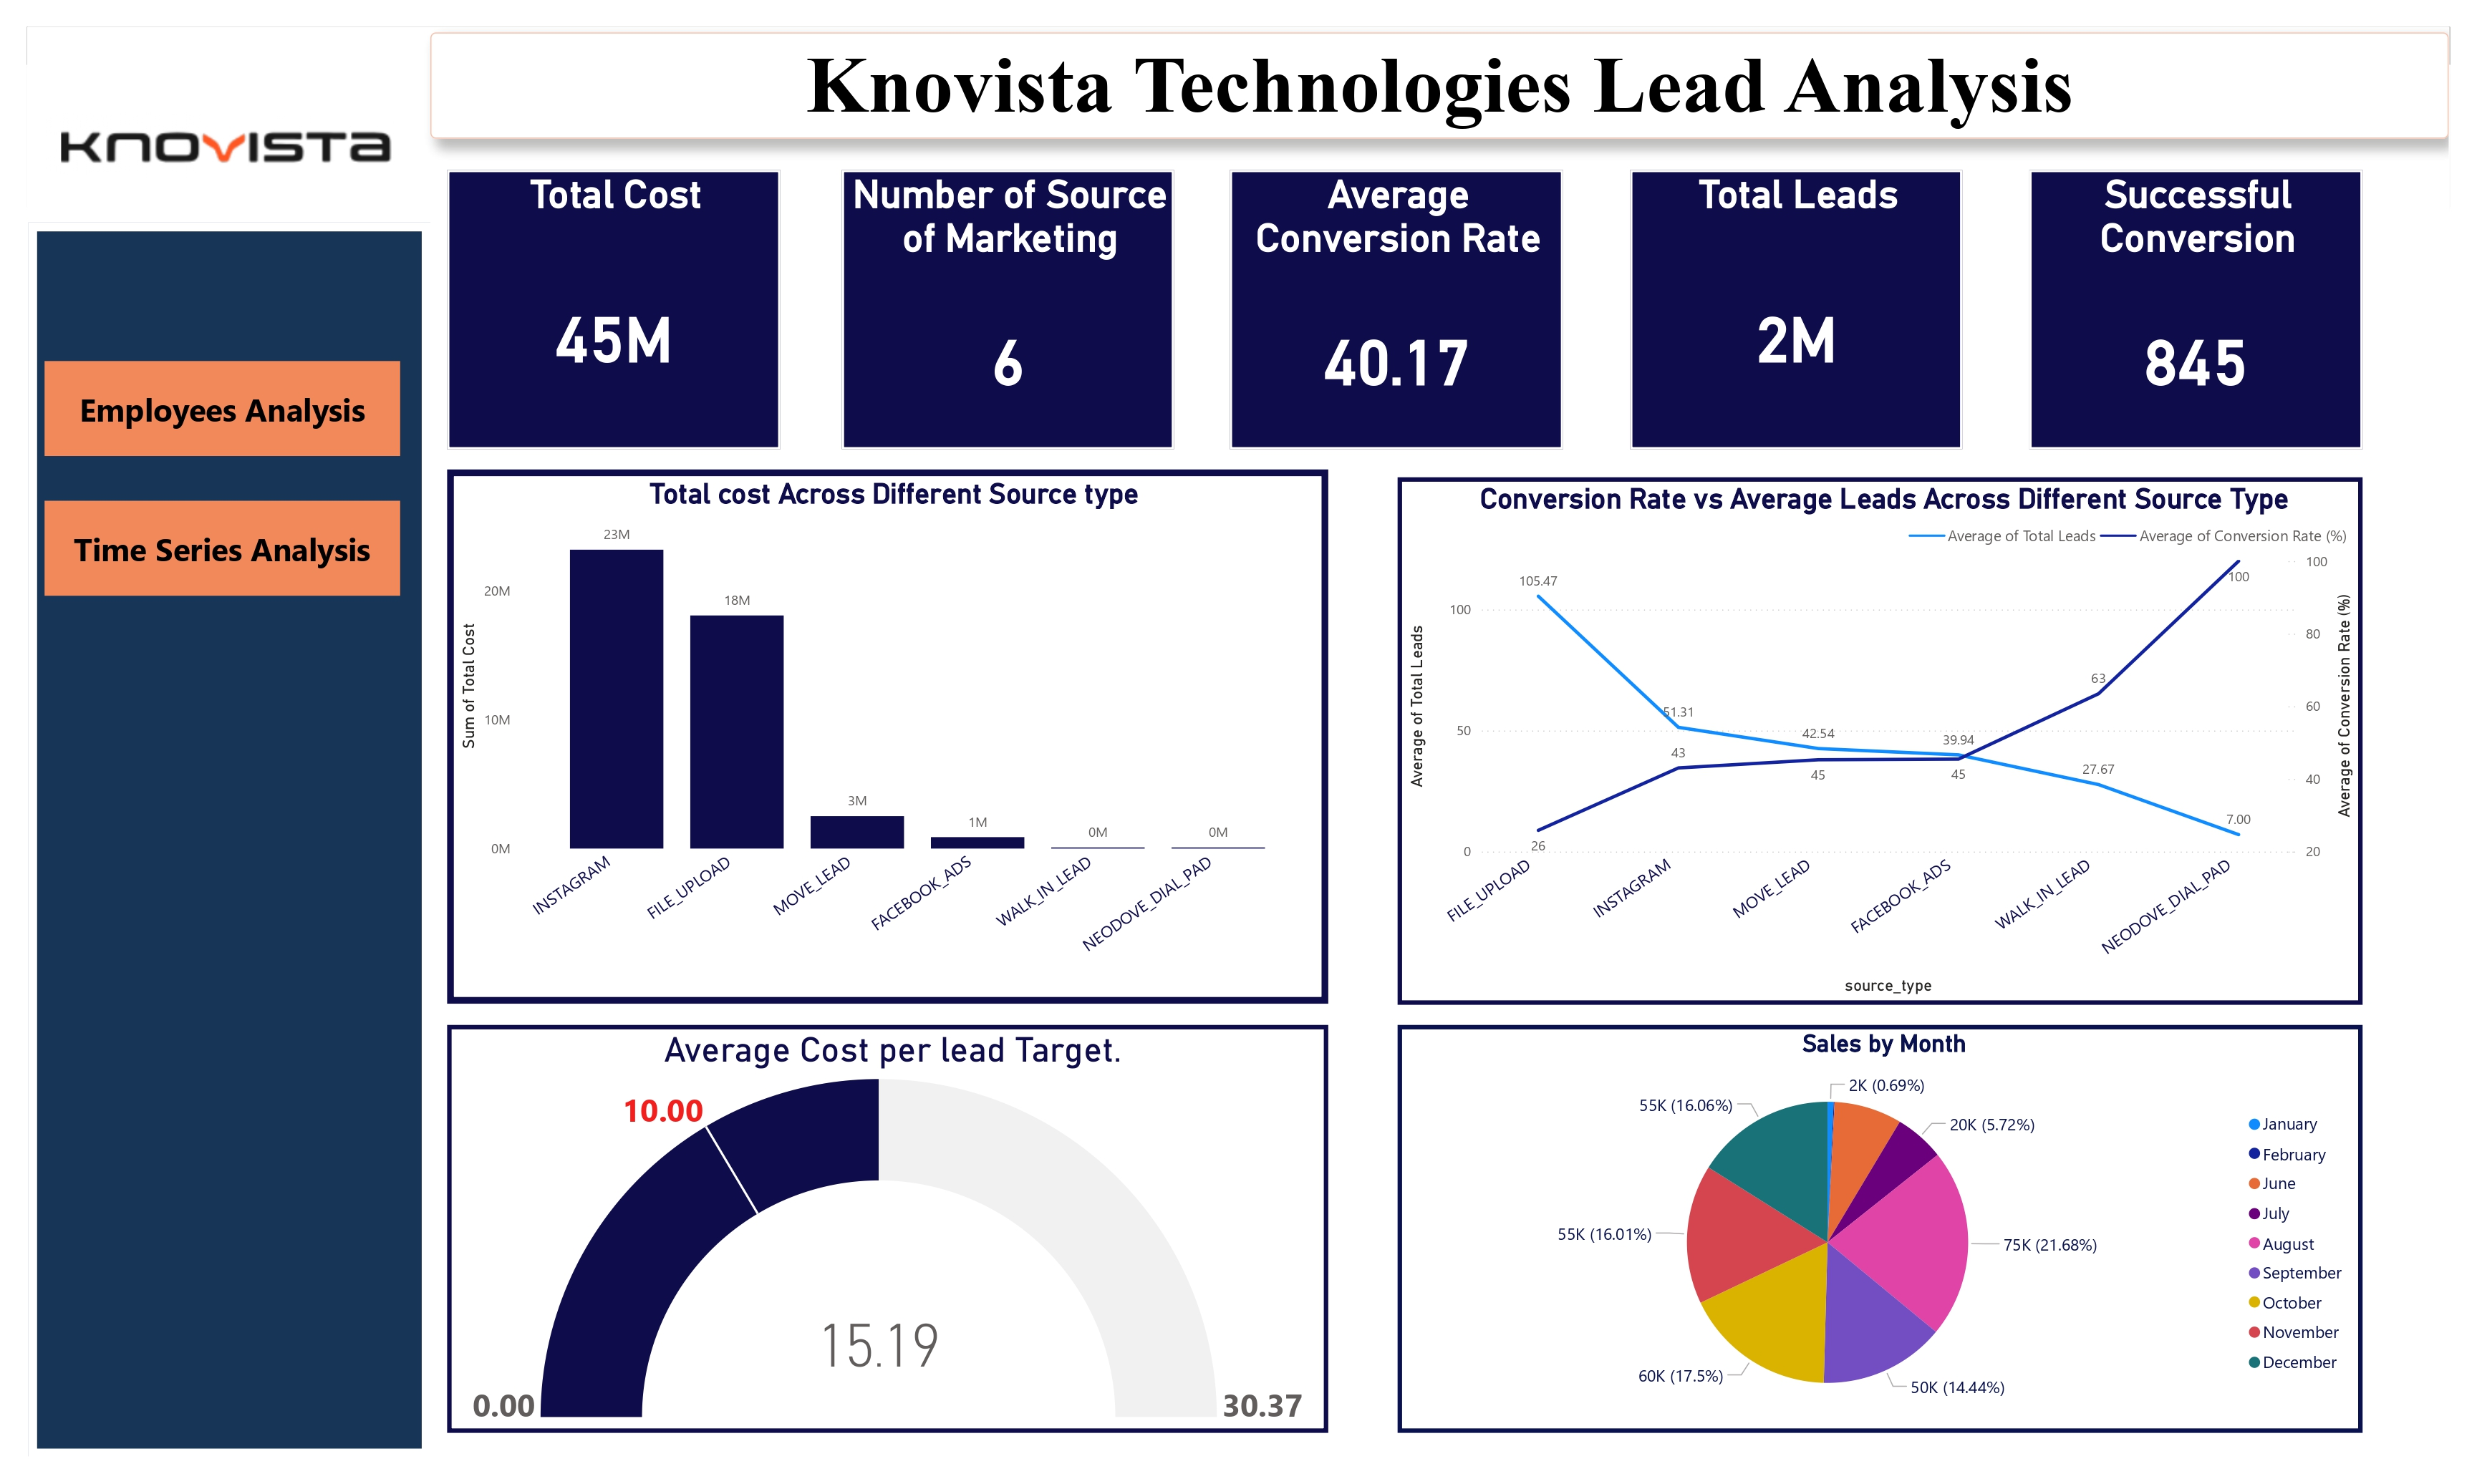

The page's visual inventory and layout, read from the dashboard file:
{"tool":"powerbi","page":{"name":"Overview","canvas":[2165,1279],"ordinal":0},"visuals":[{"type":"textbox","box":[360,5,1805,95],"z":0},{"type":"shape","box":[0,175,360,1105],"z":1000},{"type":"card","title":"Total Cost","fields":{"Values":["Sum(knovist_technologies_conversion_and_sales_data_modified.Total Cost)"]},"box":[375,127.6,297.5,250],"z":2000},{"type":"card","title":"Average Conversion Rate","fields":{"Values":["Avg(knovist_technologies_conversion_and_sales_data_modified.Conversion Rate (%))"]},"box":[1075,127.6,297.5,250],"z":3000},{"type":"card","title":"Number of Source of Marketing","fields":{"Values":["Count(knovist_technologies_conversion_and_sales_data_modified.source_type)"]},"box":[727.5,127.6,297.5,250],"z":4000},{"type":"card","title":"Total Leads","fields":{"Values":["Sum(knovist_technologies_conversion_and_sales_data_modified.Total Leads)"]},"box":[1432.5,127.6,297.5,250],"z":5000},{"type":"card","title":"Successful  Conversion","fields":{"Values":["Sum(knovist_technologies_conversion_and_sales_data_modified.Convertion index)"]},"box":[1790,127.6,297.5,250],"z":6000},{"type":"clusteredColumnChart","title":"Total cost Across Different Source type","fields":{"Category":["knovist_technologies_conversion_and_sales_data_modified.source_type"],"Y":["Sum(knovist_technologies_conversion_and_sales_data_modified.Total Cost)"]},"box":[375.2,396.3,787.5,477.5],"z":7000},{"type":"lineChart","title":"Conversion Rate vs Average Leads Across Different Source Type","fields":{"Category":["knovist_technologies_conversion_and_sales_data_modified.source_type"],"Y":["Avg(knovist_technologies_conversion_and_sales_data_modified.Total Leads)"],"Y2":["Avg(knovist_technologies_conversion_and_sales_data_modified.Conversion Rate (%))"]},"box":[1225,402.5,862.5,472.5],"z":8000},{"type":"gauge","title":"Average Cost per lead Target.","fields":{"Y":["Avg(knovist_technologies_conversion_and_sales_data_modified.Cost per Lead)"]},"box":[375,892.5,787.5,365],"z":9000},{"type":"actionButton","box":[15,299.4,317.5,85],"z":10000},{"type":"actionButton","box":[15,424.4,317.5,85],"z":11000},{"type":"image","box":[15,0,325,207.5],"z":12000},{"type":"pieChart","title":"Sales by Month","fields":{"Category":["knovist_technologies_conversion_and_sales_data_modified.creation_date.Variation.Date Hierarchy.Month","knovist_technologies_conversion_and_sales_data_modified.creation_date.Variation.Date Hierarchy.Day"],"Y":["Sum(knovist_technologies_conversion_and_sales_data_modified.Sales)"]},"box":[1225,892.5,862.5,365],"z":13000}]}

Visuals, with their boxes in screenshot pixels (x1, y1, x2, y2):
textbox: 419/19/2456/126
shape: 13/210/419/1457
"Total Cost" card: 436/157/772/439
"Average Conversion Rate" card: 1226/157/1562/439
"Number of Source of Marketing" card: 834/157/1169/439
"Total Leads" card: 1629/157/1965/439
"Successful  Conversion" card: 2032/157/2368/439
"Total cost Across Different Source type" clusteredColumnChart: 436/460/1325/999
"Conversion Rate vs Average Leads Across Different Source Type" lineChart: 1395/467/2368/1000
"Average Cost per lead Target." gauge: 436/1019/1325/1431
actionButton: 30/351/388/447
actionButton: 30/492/388/588
image: 30/13/397/247
"Sales by Month" pieChart: 1395/1019/2368/1431
